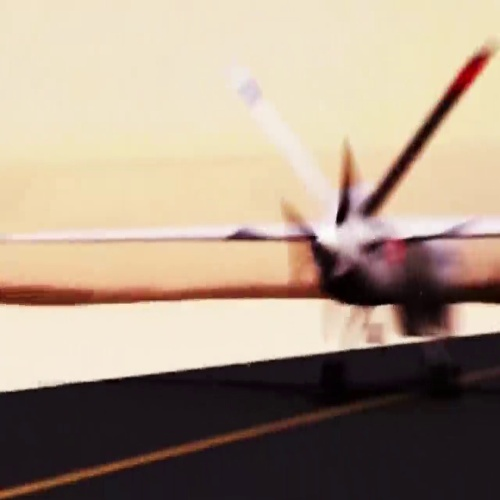uav28: (9, 61, 499, 309)
